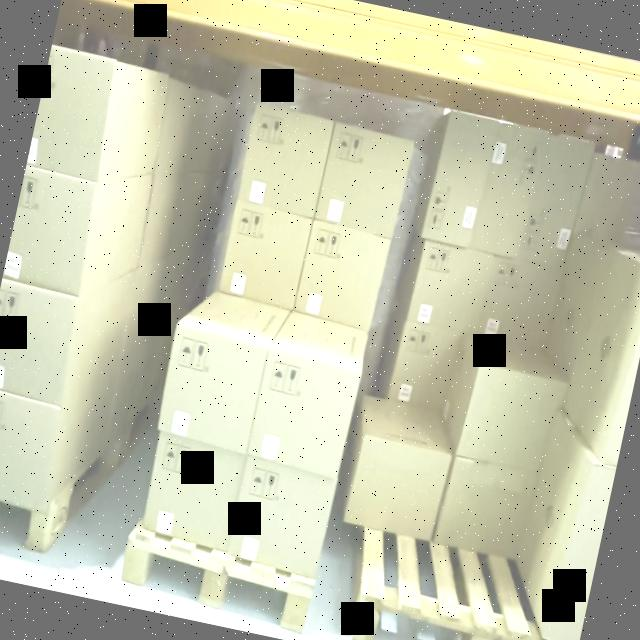box: (248, 353, 358, 475), (226, 456, 336, 577), (226, 457, 335, 575), (159, 326, 267, 445), (238, 102, 334, 216), (143, 437, 242, 547), (458, 367, 564, 467), (420, 116, 498, 251), (349, 436, 449, 540), (316, 127, 414, 230), (295, 222, 390, 328), (474, 121, 544, 258), (441, 458, 538, 556), (219, 208, 312, 308), (522, 136, 593, 258), (410, 245, 496, 335), (482, 263, 564, 342)
